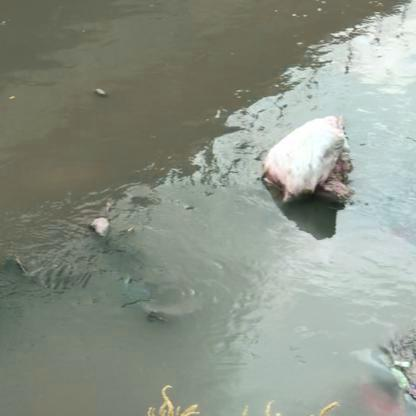Trash: (263, 113, 349, 203)
